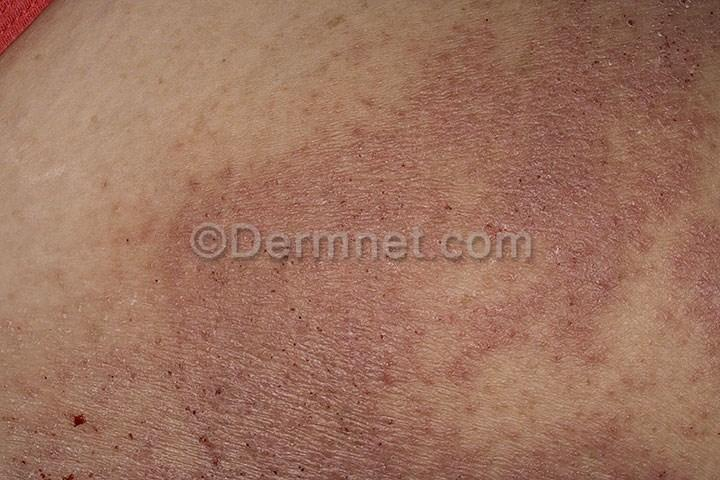Eczema: (467, 40, 678, 212), (216, 336, 426, 480), (30, 384, 105, 466)
